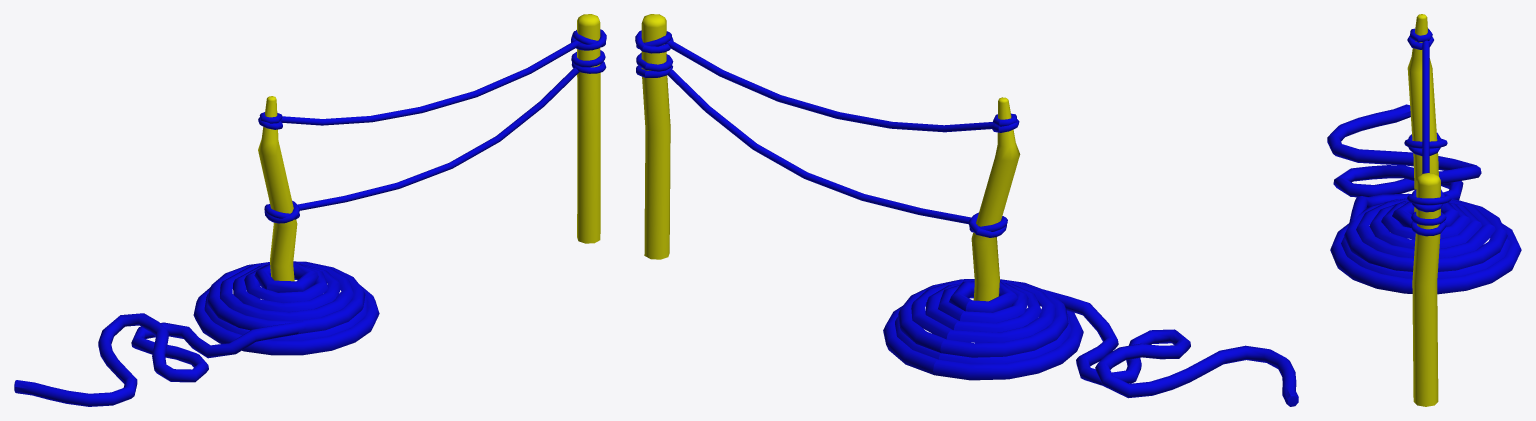
Rendered from prp_RopeFence.fbx.
The picture shows the model from 3 angles, left to right: view 1: azimuth 30°, elevation 25°; view 2: azimuth 150°, elevation 25°; view 3: azimuth 270°, elevation 25°; orthographic projection. The views are drawn at different scales.
Parts seen in each view (by area): view 1: prp_RopeFence; view 2: prp_RopeFence; view 3: prp_RopeFence.
Part boxes in pixels (x1,y1,x2,y2): prp_RopeFence: (14,14,606,406); prp_RopeFence: (635,14,1298,406); prp_RopeFence: (1327,14,1521,406).
Bounding box in the file's own units: 2.59 × 0.7061 × 0.9319.
